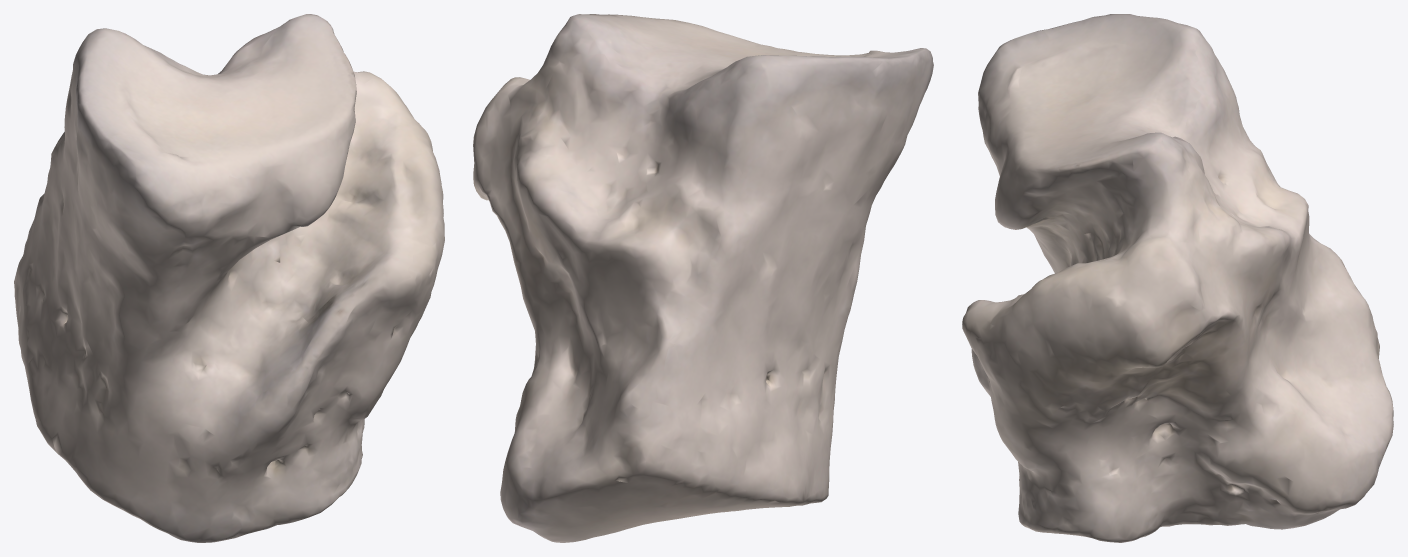
3 views of the same model, side by side, from view 1: azimuth 30°, elevation 25°; view 2: azimuth 150°, elevation 25°; view 3: azimuth 270°, elevation 25° (orthographic). The views are drawn at different scales.
Parts seen in each view (by area): view 1: Os tarsale quartum_li_Katze.001; view 2: Os tarsale quartum_li_Katze.001; view 3: Os tarsale quartum_li_Katze.001.
Part boxes in pixels (<box>): Os tarsale quartum_li_Katze.001: <box>14,14,444,542</box>; Os tarsale quartum_li_Katze.001: <box>473,14,933,542</box>; Os tarsale quartum_li_Katze.001: <box>962,14,1393,542</box>.
Size of the model in its own units: 832 by 1004 by 870.
Materials: 1 (1 with a texture image).
